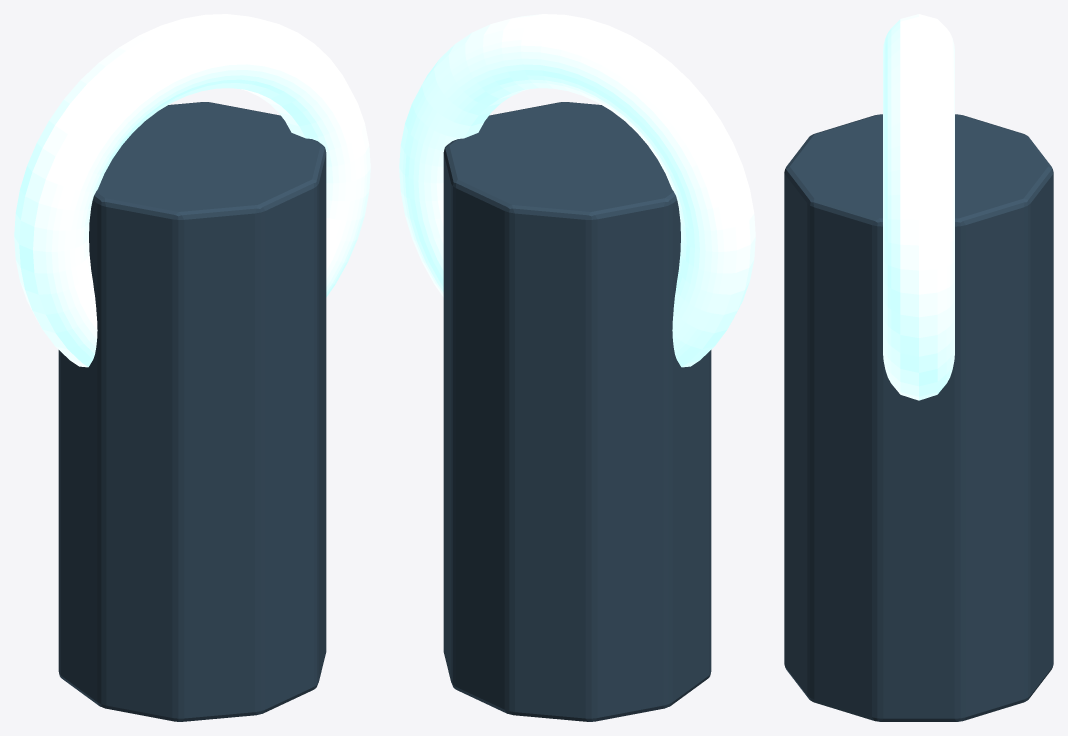
The model's file is SM_Rheinufer_Bollard.fbx.
The picture shows the model from 3 angles, left to right: view 1: azimuth 30°, elevation 25°; view 2: azimuth 150°, elevation 25°; view 3: azimuth 270°, elevation 25°; orthographic projection.
Parts seen in each view (by area): view 1: SM_Rheinufer_Bollard; view 2: SM_Rheinufer_Bollard; view 3: SM_Rheinufer_Bollard.
Boxes of the visible parts, x1=… form: SM_Rheinufer_Bollard: x1=14, y1=14, x2=370, y2=721; SM_Rheinufer_Bollard: x1=399, y1=14, x2=755, y2=721; SM_Rheinufer_Bollard: x1=784, y1=14, x2=1053, y2=721.
Bounding box in the file's own units: 0.64 × 1.14 × 0.4364.
